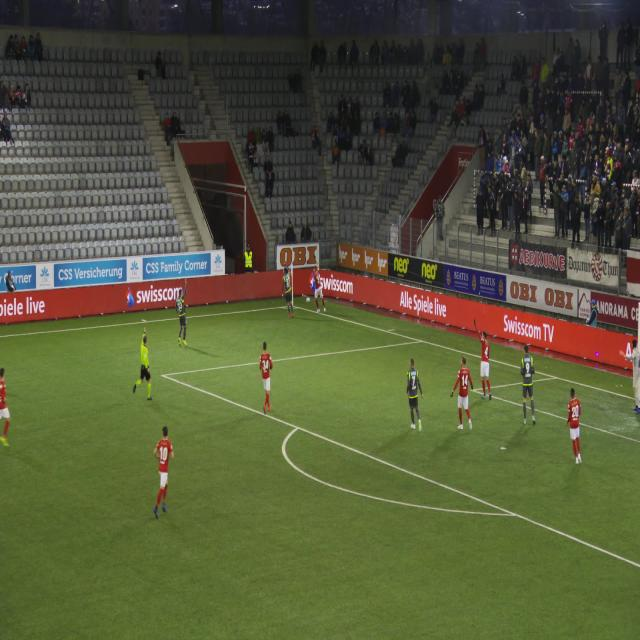Ball: (305, 290, 311, 308)
Player: (559, 378, 587, 482), (472, 312, 497, 424), (446, 351, 478, 438), (512, 336, 541, 432), (149, 424, 176, 527), (254, 334, 282, 426), (400, 354, 428, 440), (0, 353, 16, 447), (625, 325, 640, 421), (173, 286, 191, 357), (282, 258, 298, 334), (311, 262, 327, 320)
Referee: (129, 318, 161, 415)
